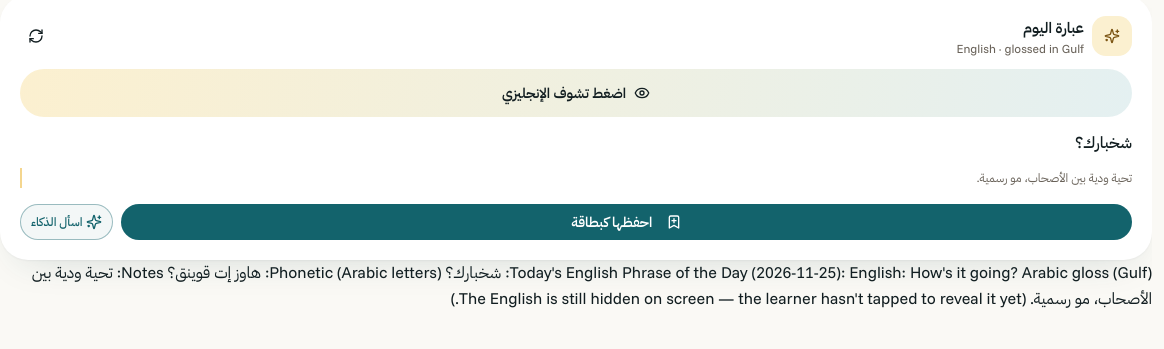
Test case: asking for another › hides the English again for the new phrase
Expected: the text "شخبارك؟" is shown, [1075,132,1132,152]
Click the button with aria-label "اكشف العبارة بالإنجليزي". click: point(576, 93)
box: [20,69,1132,117]
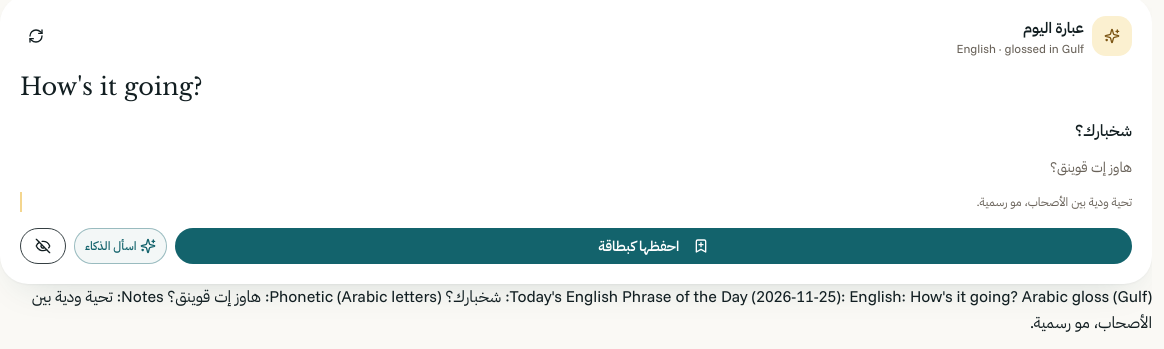
Click the button named "جدّد العبارة". click: point(36, 36)
box: [20,20,52,52]
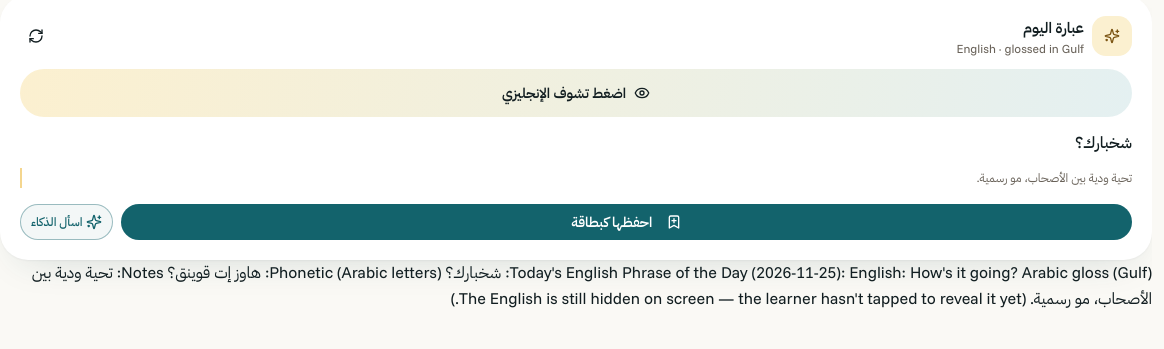
Now the button with aria-label "اكشف العبارة بالإنجليزي" is shown, box [20,69,1132,117]
